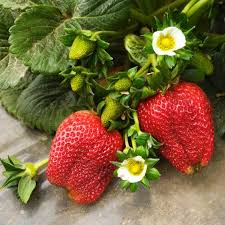strawberry: (45, 107, 125, 209), (136, 79, 217, 177)
